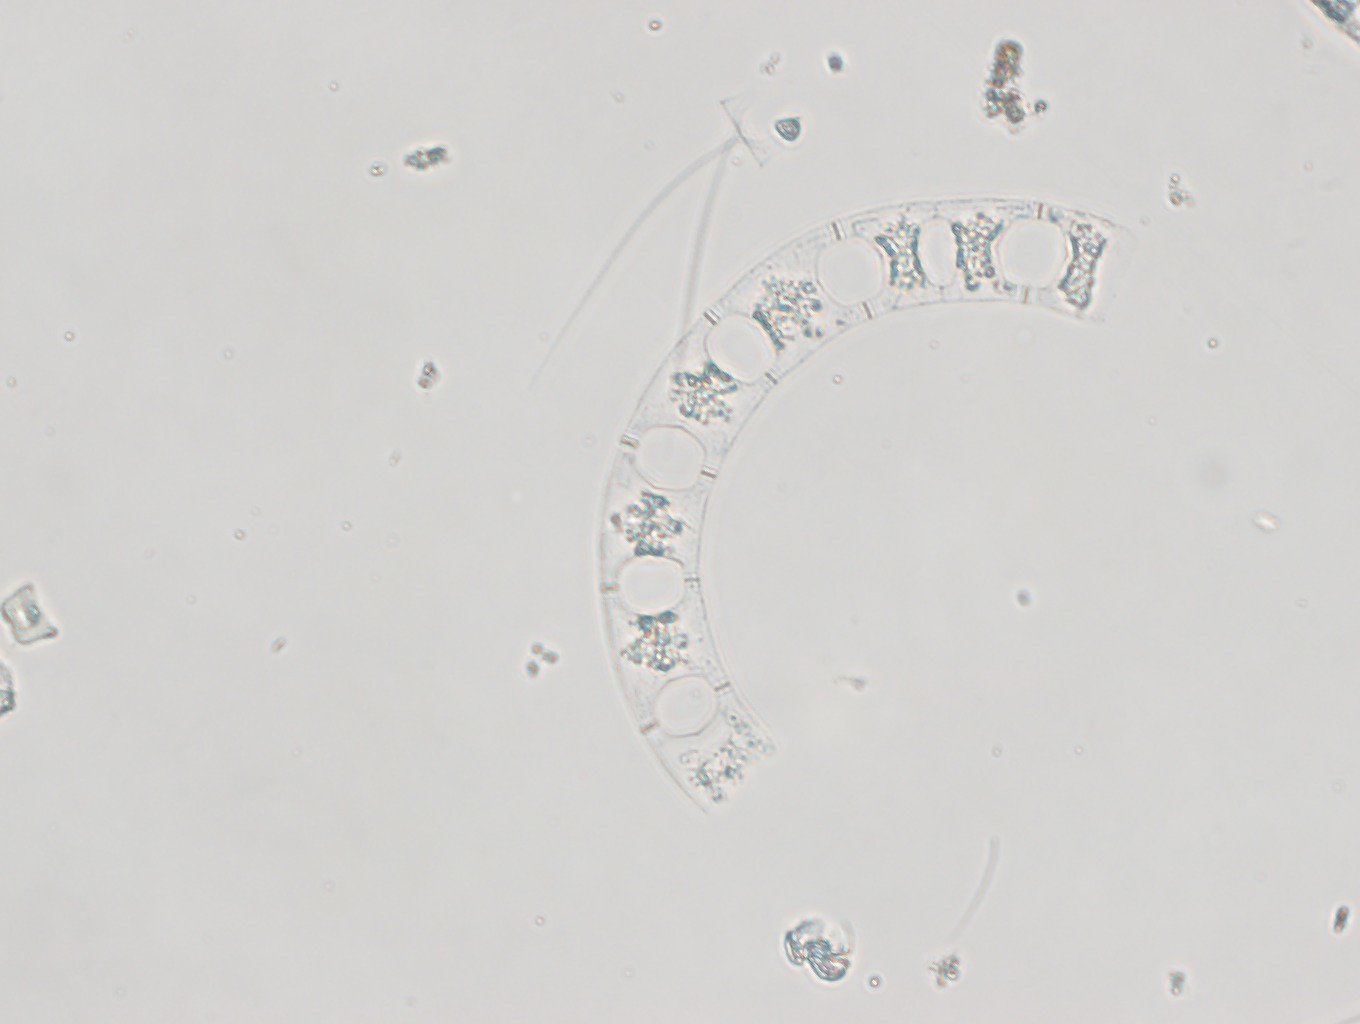chaetoceros: (536, 87, 804, 381)
eucampia: (592, 197, 1134, 817)
